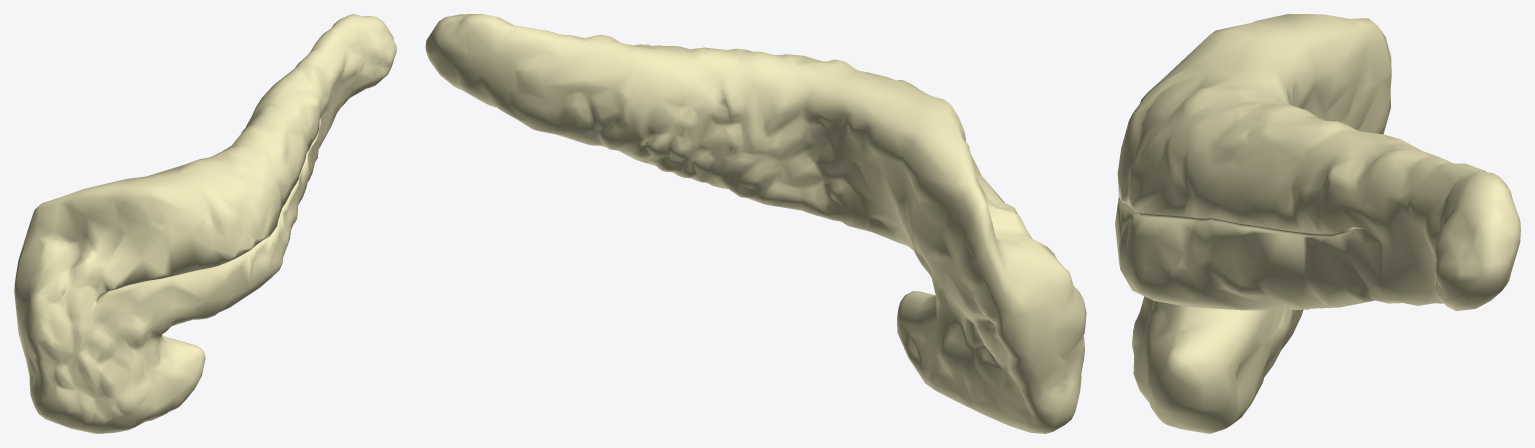
File: pancreas-test.glb
The picture shows the model from 3 angles, left to right: view 1: azimuth 30°, elevation 25°; view 2: azimuth 150°, elevation 25°; view 3: azimuth 270°, elevation 25°; orthographic projection. The views are drawn at different scales.
Parts seen in each view (by area): view 1: Pancreas; view 2: Pancreas; view 3: Pancreas.
Part boxes in pixels (bbox=[...]): Pancreas: bbox=[14, 14, 396, 433]; Pancreas: bbox=[425, 14, 1086, 433]; Pancreas: bbox=[1115, 14, 1520, 433].
Bounding box in the file's own units: 0.1181 × 0.0737 × 0.0534.
